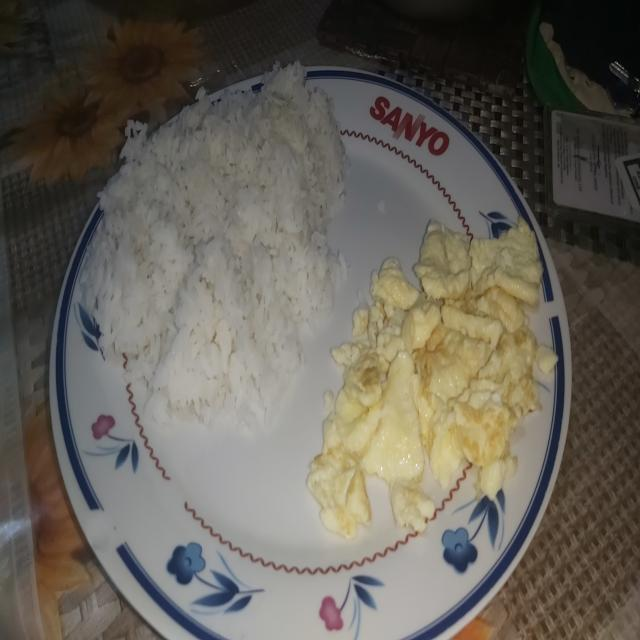Chicken -Chicken Inasal-: (88, 58, 338, 431)
